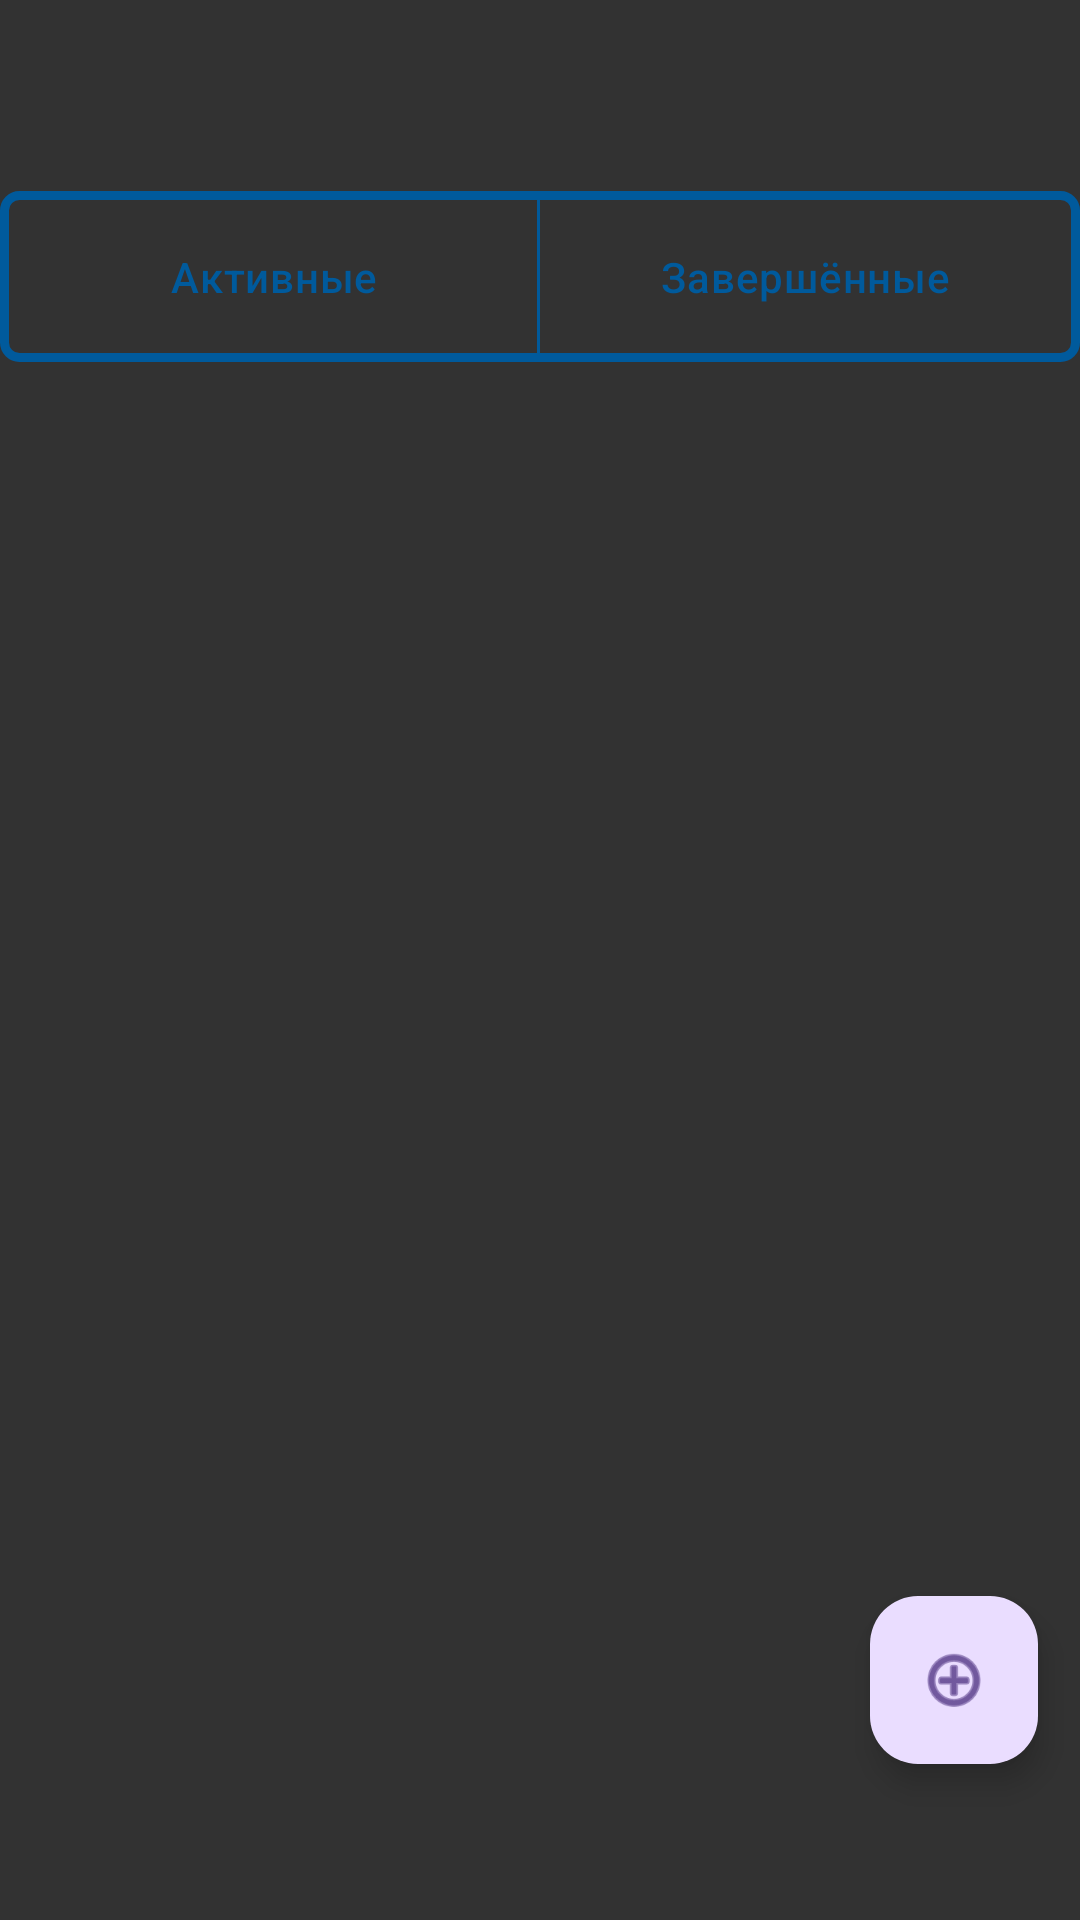

Icon bounding boxes for this 1080×1920 phone screenshot, format (x1=x1, y1=y1, x2=x2, y2=y2):
add: (x1=870, y1=1596, x2=1038, y2=1764)
